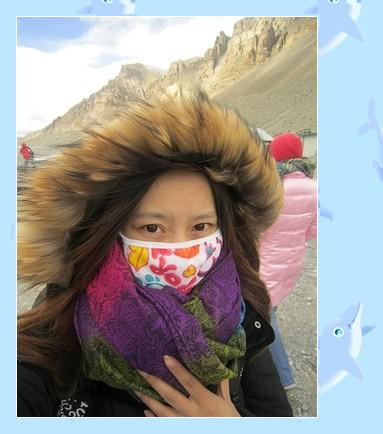OK: (126, 202, 222, 302)
